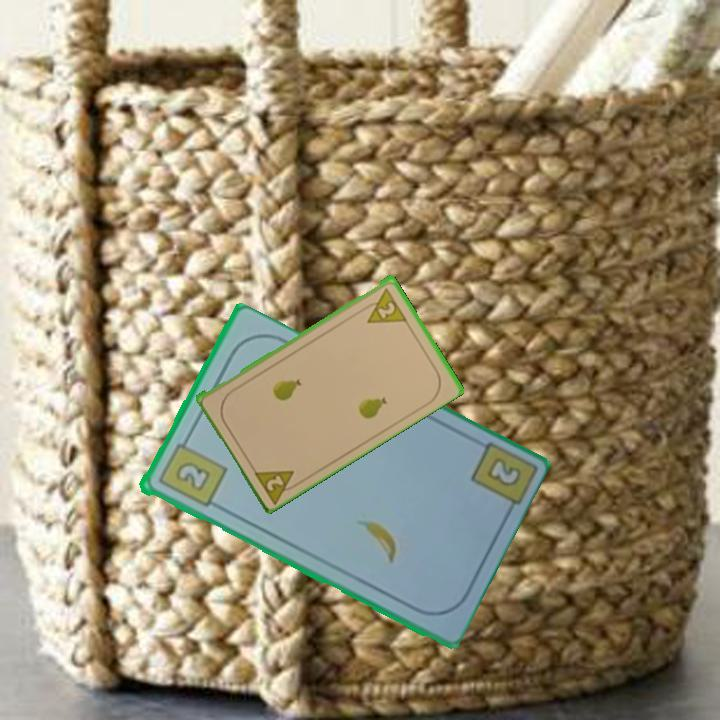2b: (154, 433, 229, 510), (486, 457, 521, 487)
2p: (249, 465, 304, 505), (358, 284, 409, 326)
